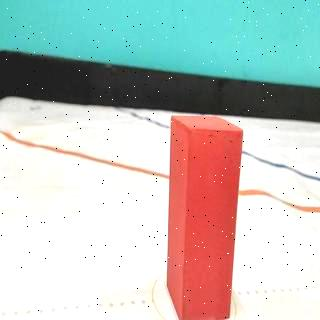redbox: (168, 112, 244, 320)
